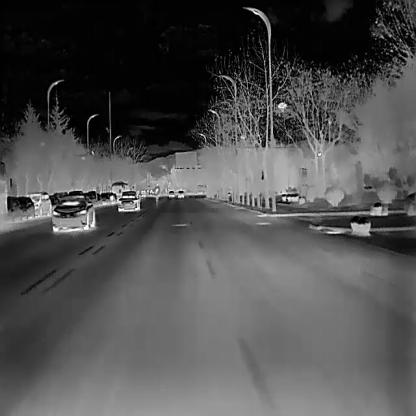bus: (111, 180, 128, 200)
car: (49, 196, 97, 232), (7, 196, 35, 223), (30, 189, 50, 217), (116, 190, 140, 212), (86, 189, 101, 205), (102, 192, 115, 204), (177, 190, 183, 197), (168, 190, 173, 198)
